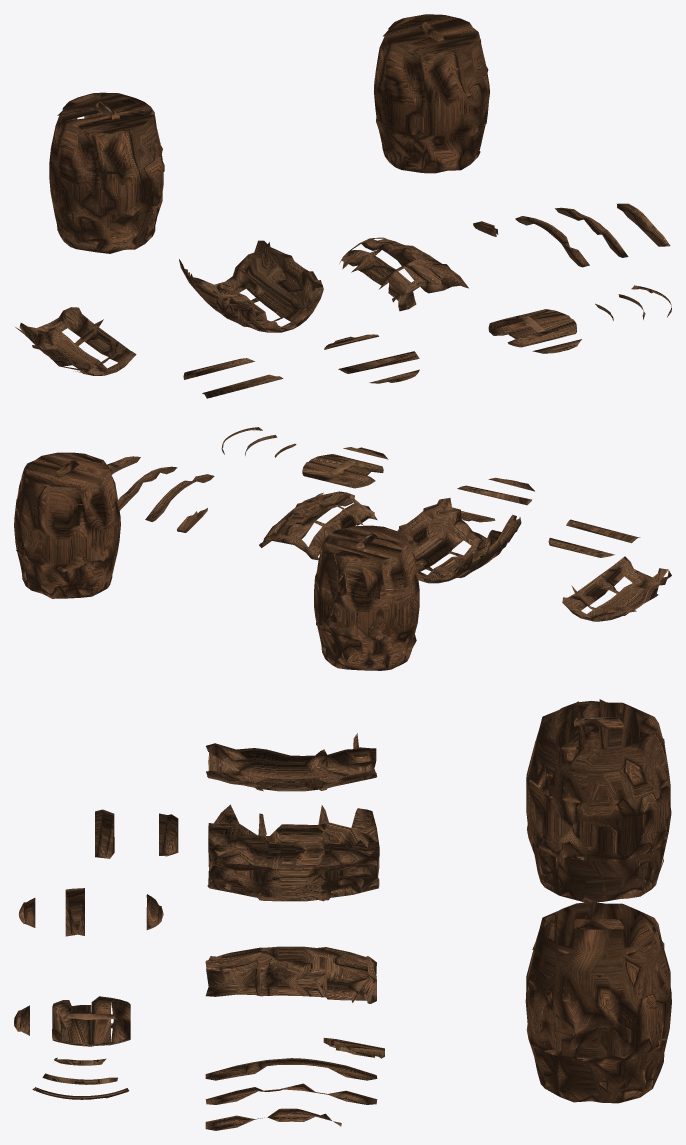
The model's file is wooden_barrels_01.glb.
3 renders of one model, top to bottom at view 1: azimuth 30°, elevation 25°; view 2: azimuth 150°, elevation 25°; view 3: azimuth 270°, elevation 25°, orthographic. The views are drawn at different scales.
Parts seen in each view (by area): view 1: wooden_barrels_01_barrel02, wooden_barrels_01_barrel01, wooden_barrels_01_piece01, wooden_barrels_01_piece03, wooden_barrels_01_piece02, wooden_barrels_01_piece08, wooden_barrels_01_piece06, wooden_barrels_01_piece04, wooden_barrels_01_piece05, wooden_barrels_01_piece11, wooden_barrels_01_piece14; view 2: wooden_barrels_01_barrel02, wooden_barrels_01_barrel01, wooden_barrels_01_piece01, wooden_barrels_01_piece02, wooden_barrels_01_piece03, wooden_barrels_01_piece08, wooden_barrels_01_piece04, wooden_barrels_01_piece05, wooden_barrels_01_piece14, wooden_barrels_01_piece13, wooden_barrels_01_piece11; view 3: wooden_barrels_01_barrel01, wooden_barrels_01_barrel02, wooden_barrels_01_piece01, wooden_barrels_01_piece03, wooden_barrels_01_piece02, wooden_barrels_01_piece08, wooden_barrels_01_piece04, wooden_barrels_01_piece05, wooden_barrels_01_piece06, wooden_barrels_01_piece11, wooden_barrels_01_piece14, wooden_barrels_01_piece13 (+1 smaller).
Part boxes in pixels (bbox=[...]): wooden_barrels_01_barrel02: bbox=[49, 92, 164, 253]; wooden_barrels_01_barrel01: bbox=[374, 14, 489, 173]; wooden_barrels_01_piece01: bbox=[179, 240, 323, 332]; wooden_barrels_01_piece03: bbox=[339, 237, 468, 311]; wooden_barrels_01_piece02: bbox=[15, 307, 136, 375]; wooden_barrels_01_piece08: bbox=[488, 309, 576, 347]; wooden_barrels_01_piece06: bbox=[616, 203, 670, 246]; wooden_barrels_01_piece04: bbox=[515, 216, 589, 267]; wooden_barrels_01_piece05: bbox=[555, 207, 628, 257]; wooden_barrels_01_piece11: bbox=[338, 351, 419, 373]; wooden_barrels_01_piece14: bbox=[202, 374, 283, 398]; wooden_barrels_01_barrel02: bbox=[314, 525, 419, 670]; wooden_barrels_01_barrel01: bbox=[14, 452, 120, 598]; wooden_barrels_01_piece01: bbox=[397, 498, 521, 583]; wooden_barrels_01_piece02: bbox=[562, 556, 671, 621]; wooden_barrels_01_piece03: bbox=[259, 491, 377, 560]; wooden_barrels_01_piece08: bbox=[302, 454, 383, 488]; wooden_barrels_01_piece04: bbox=[145, 474, 214, 521]; wooden_barrels_01_piece05: bbox=[118, 466, 177, 510]; wooden_barrels_01_piece14: bbox=[566, 519, 640, 543]; wooden_barrels_01_piece13: bbox=[548, 538, 614, 557]; wooden_barrels_01_piece11: bbox=[457, 485, 531, 505]; wooden_barrels_01_barrel01: bbox=[525, 901, 671, 1103]; wooden_barrels_01_barrel02: bbox=[526, 699, 671, 902]; wooden_barrels_01_piece01: bbox=[207, 804, 379, 901]; wooden_barrels_01_piece03: bbox=[205, 946, 376, 1003]; wooden_barrels_01_piece02: bbox=[206, 733, 377, 791]; wooden_barrels_01_piece08: bbox=[52, 996, 130, 1046]; wooden_barrels_01_piece04: bbox=[205, 1058, 377, 1080]; wooden_barrels_01_piece05: bbox=[205, 1083, 377, 1104]; wooden_barrels_01_piece06: bbox=[205, 1108, 341, 1130]; wooden_barrels_01_piece11: bbox=[65, 888, 84, 936]; wooden_barrels_01_piece14: bbox=[95, 809, 114, 858]; wooden_barrels_01_piece13: bbox=[159, 813, 178, 856].
Bounding box in the file's own units: 4.44 × 0.9447 × 3.34.
Materials: 3 (3 with a texture image).
